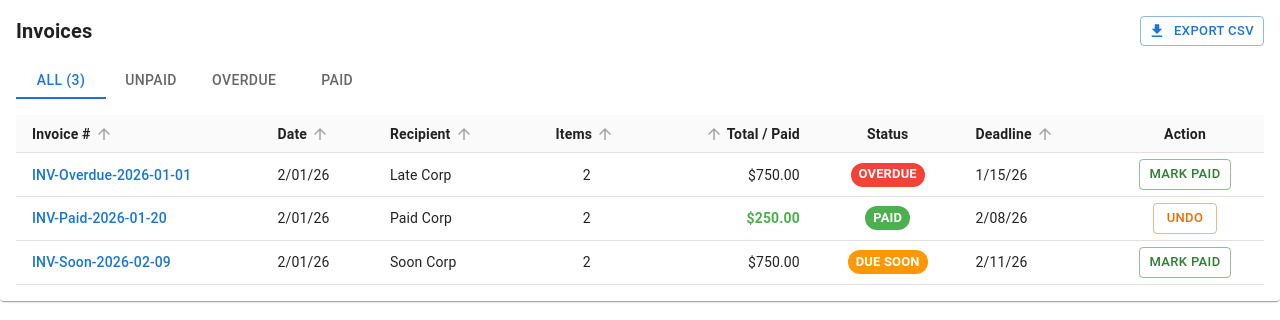
Test: InvoiceListPanel › filters to paid invoices when Paid tab is clicked
The width and height of the screenshot is (1280, 320).
Click the tab "Paid" at (337, 81), box [292,63,382,99]
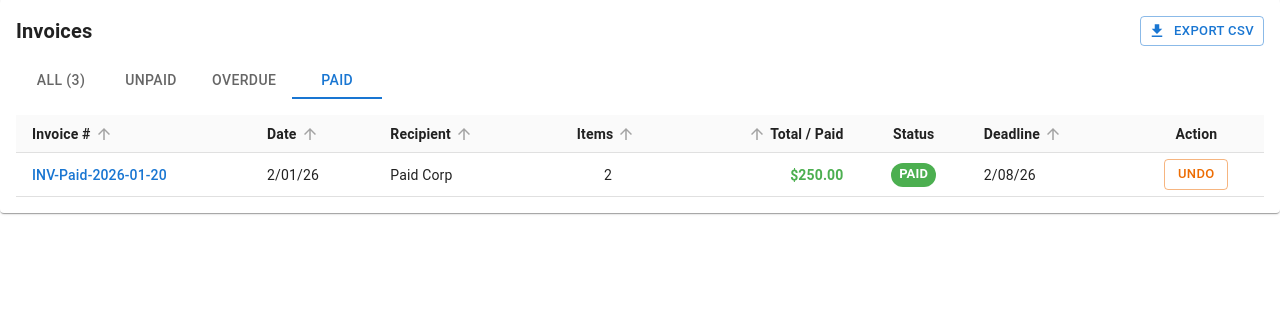
Expected: the text "INV-Paid-2026-01-20" is shown, [16,153,251,197]
Expected: the text "INV-Overdue-2026-01-01" is gone
Expected: the text "INV-Soon-2026-02-09" is gone
